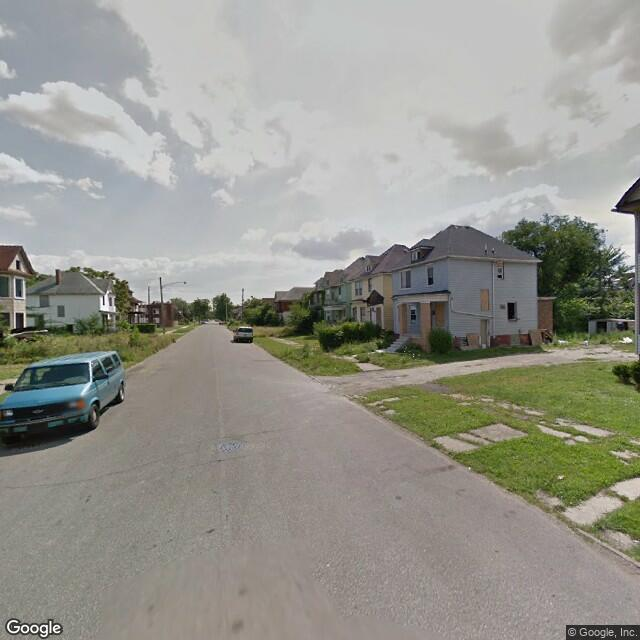litter: (617, 337, 633, 346), (556, 338, 564, 346), (582, 341, 589, 348), (557, 474, 567, 477), (468, 466, 472, 469)
